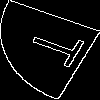T: (24, 25, 97, 74)
